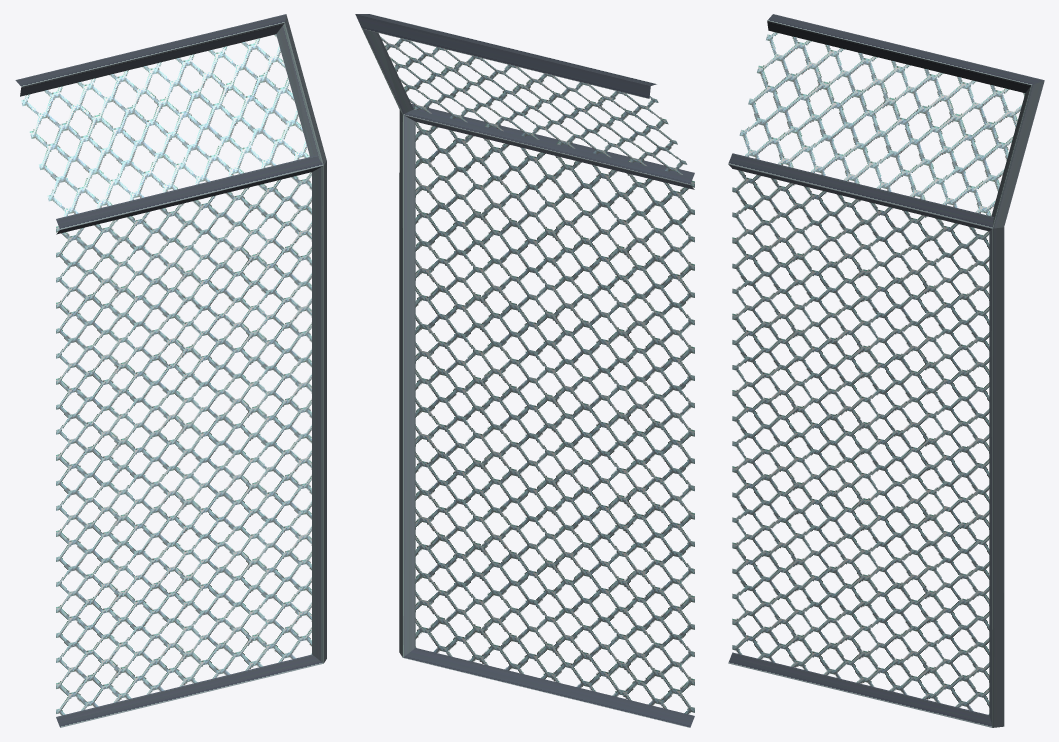
Rendered from a_SEwirefence04.glb.
3 renders of one model, left to right at view 1: azimuth 30°, elevation 25°; view 2: azimuth 150°, elevation 25°; view 3: azimuth 330°, elevation 25°, orthographic. The views are drawn at different scales.
Parts seen in each view (by area): view 1: a_SEwirefence04; view 2: a_SEwirefence04; view 3: a_SEwirefence04.
Boxes of the visible parts, <box> form: a_SEwirefence04: <box>15,14,326,727</box>; a_SEwirefence04: <box>355,14,694,727</box>; a_SEwirefence04: <box>728,14,1044,727</box>.
Size of the model in its own units: 1.03 by 2.23 by 0.3028.
Materials: 2 (2 with a texture image).
